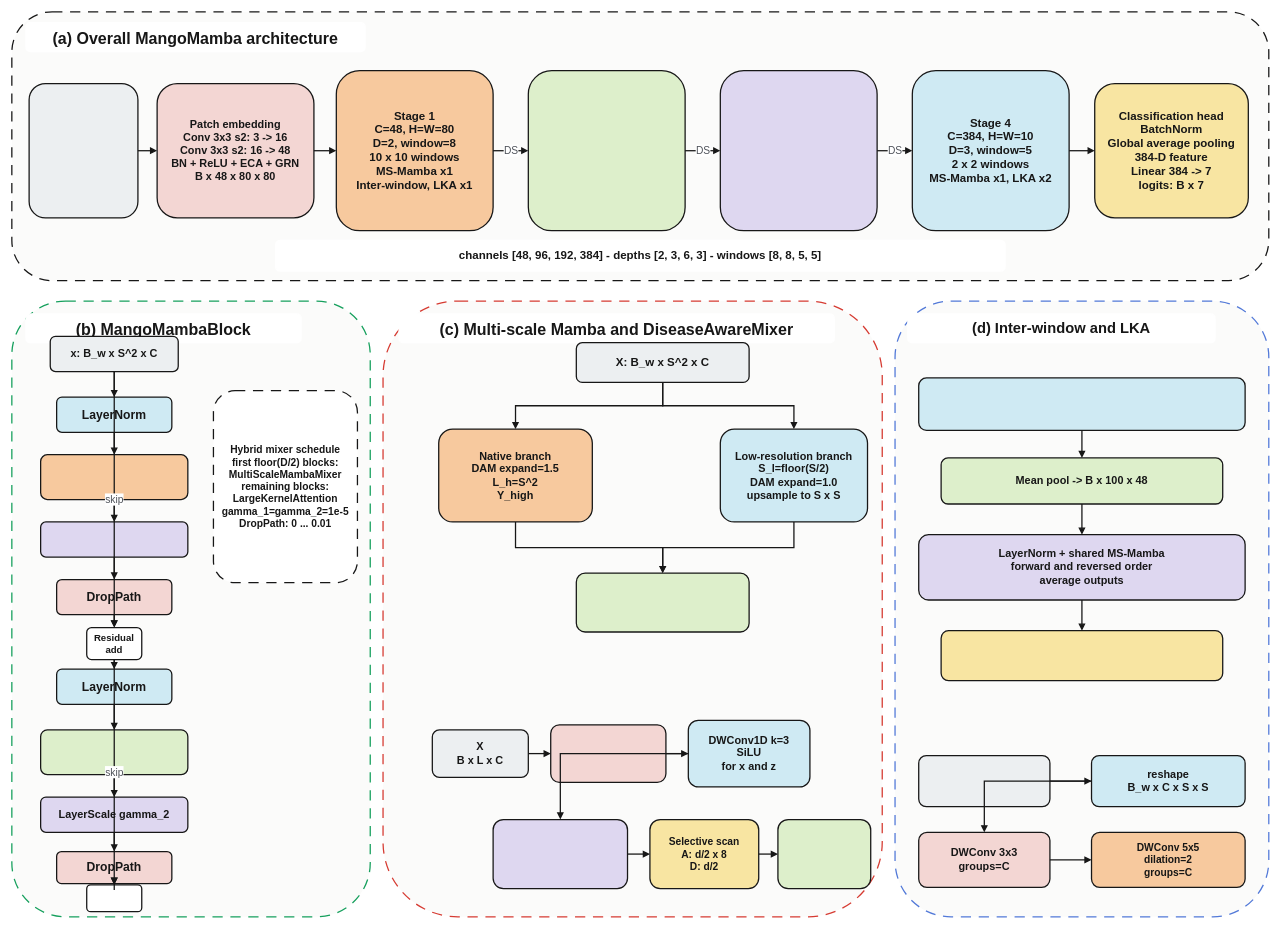
The diagram is 1280 pixels wide and 928 high, and some of its shapes have lost their labels. Here are the shapes that lost their labels. From the top down, the box of each, then its label:
(28, 83, 138, 218): Input RGB image B x 3 x 320 x 320
(527, 70, 685, 231): Stage 2 C=96, H=W=40 D=3, window=8 5 x 5 windows MS-Mamba x1, LKA x2
(719, 70, 877, 231): Stage 3 C=192, H=W=20 D=6, window=5 4 x 4 windows MS-Mamba x3, LKA x3
(918, 377, 1245, 431): Stage 1: 10 x 10 windows 64 tokens x 48 channels/window
(40, 454, 188, 500): Mixer MS-Mamba or LKA
(40, 521, 188, 557): LayerScale gamma_1
(575, 572, 749, 632): Per-channel gated fusion Y=(1-g)Y_high+gY_low
(940, 630, 1223, 681): Broadcast to 64 tokens/window gamma_iw=1e-5
(40, 729, 188, 775): SwiGLU C -> 2C -> C
(550, 724, 666, 783): in_proj C -> d_inner split x,z
(918, 755, 1050, 807): X B_w x S^2 x C
(492, 819, 628, 889): x_proj r=ceil(C/16) state N=8
(777, 819, 871, 889): Concat(y,z) out_proj d_inner -> C
(86, 884, 142, 912): Residual add -> y
